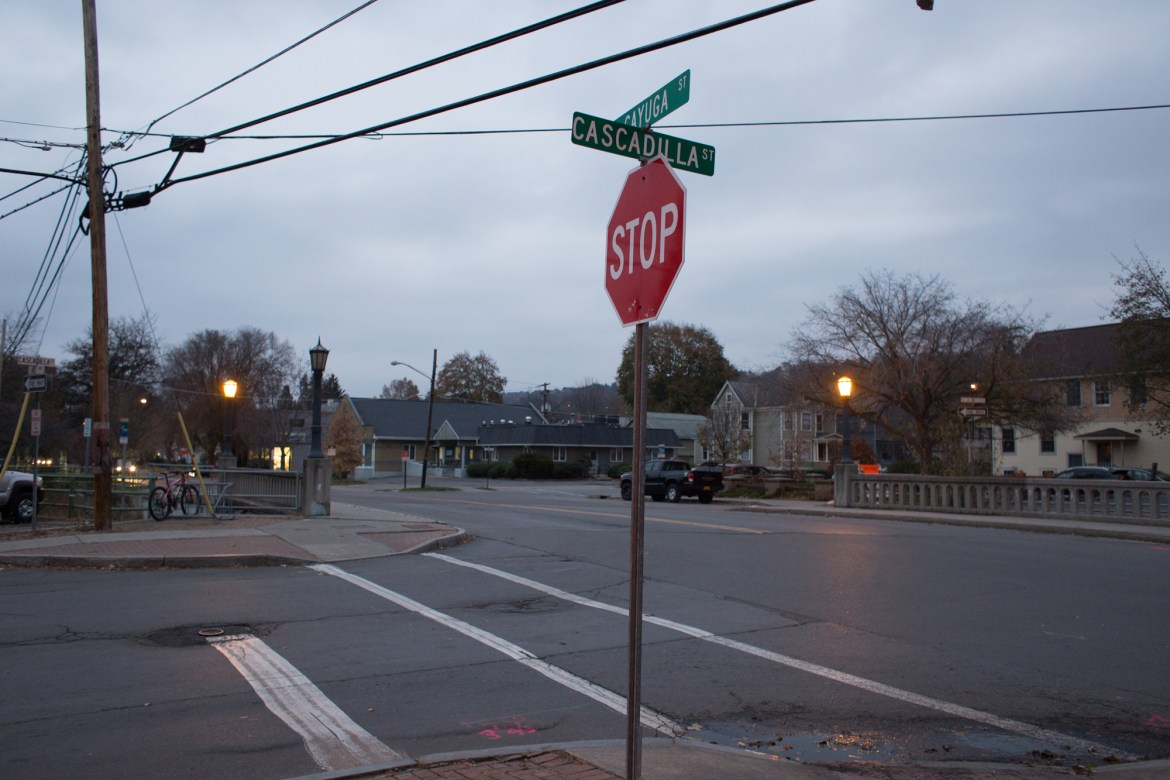stopsign: (605, 151, 688, 327)
